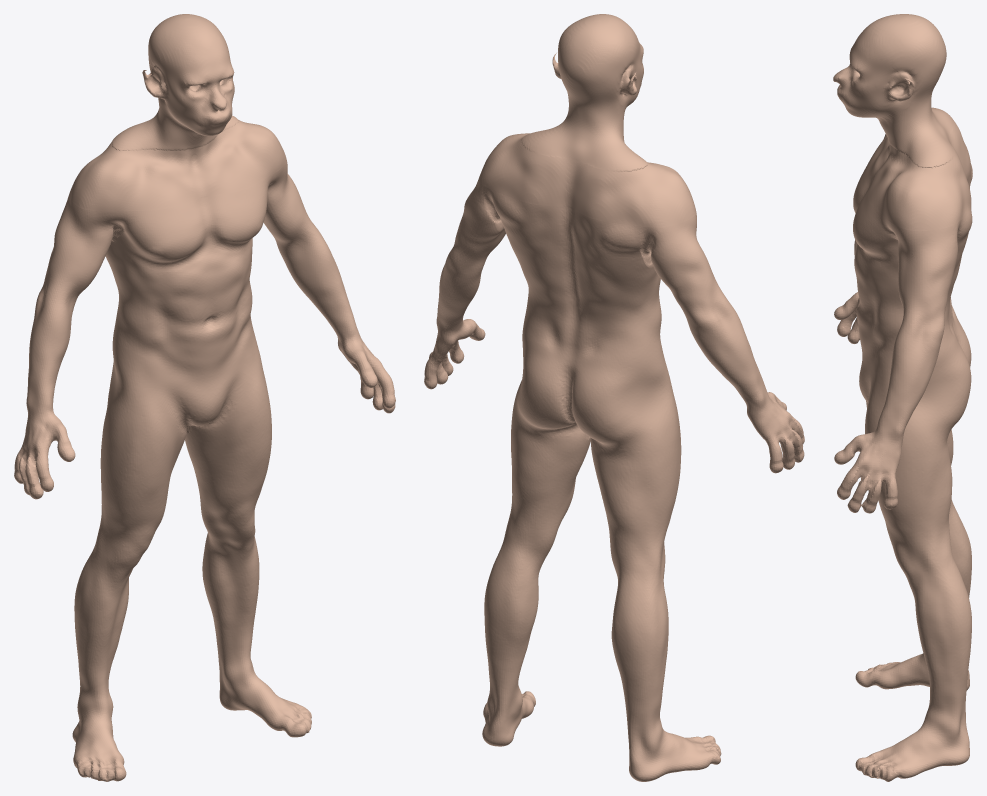
The model's file is male-v8.glb.
3 views of the same model, side by side, from view 1: azimuth 30°, elevation 25°; view 2: azimuth 150°, elevation 25°; view 3: azimuth 270°, elevation 25° (orthographic). The views are drawn at different scales.
Parts seen in each view (by area): view 1: world; view 2: world; view 3: world.
Part boxes in pixels (<box>): world: <box>14,14,395,781</box>; world: <box>424,14,804,781</box>; world: <box>833,14,972,781</box>.
Size of the model in its own units: 0.8925 by 1.69 by 0.3014.
